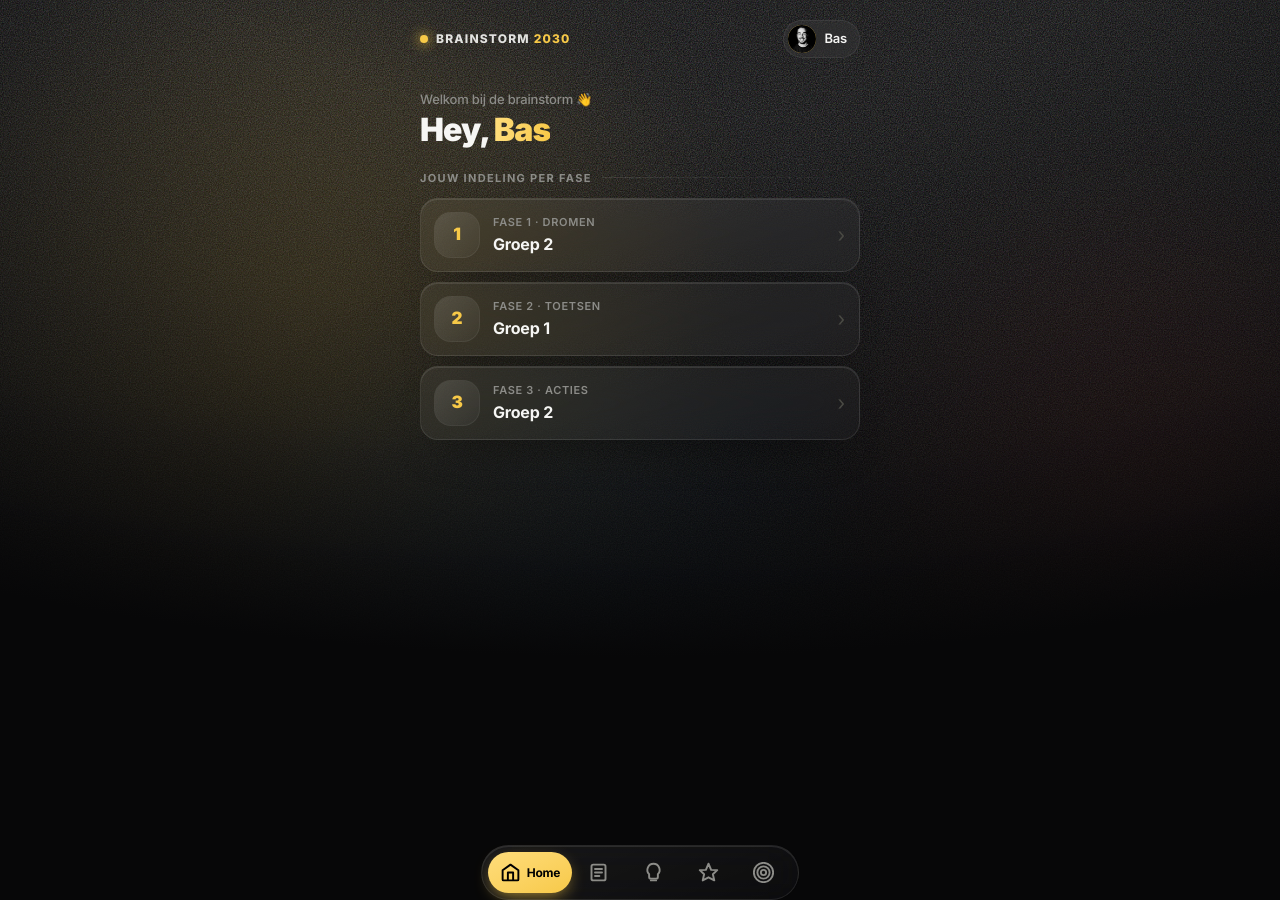
Scenario: App flow › navigates between tabs via the bottom nav
The width and height of the screenshot is (1280, 900).
Click the button named "Spelregels": (602, 872) [576, 852, 627, 893]
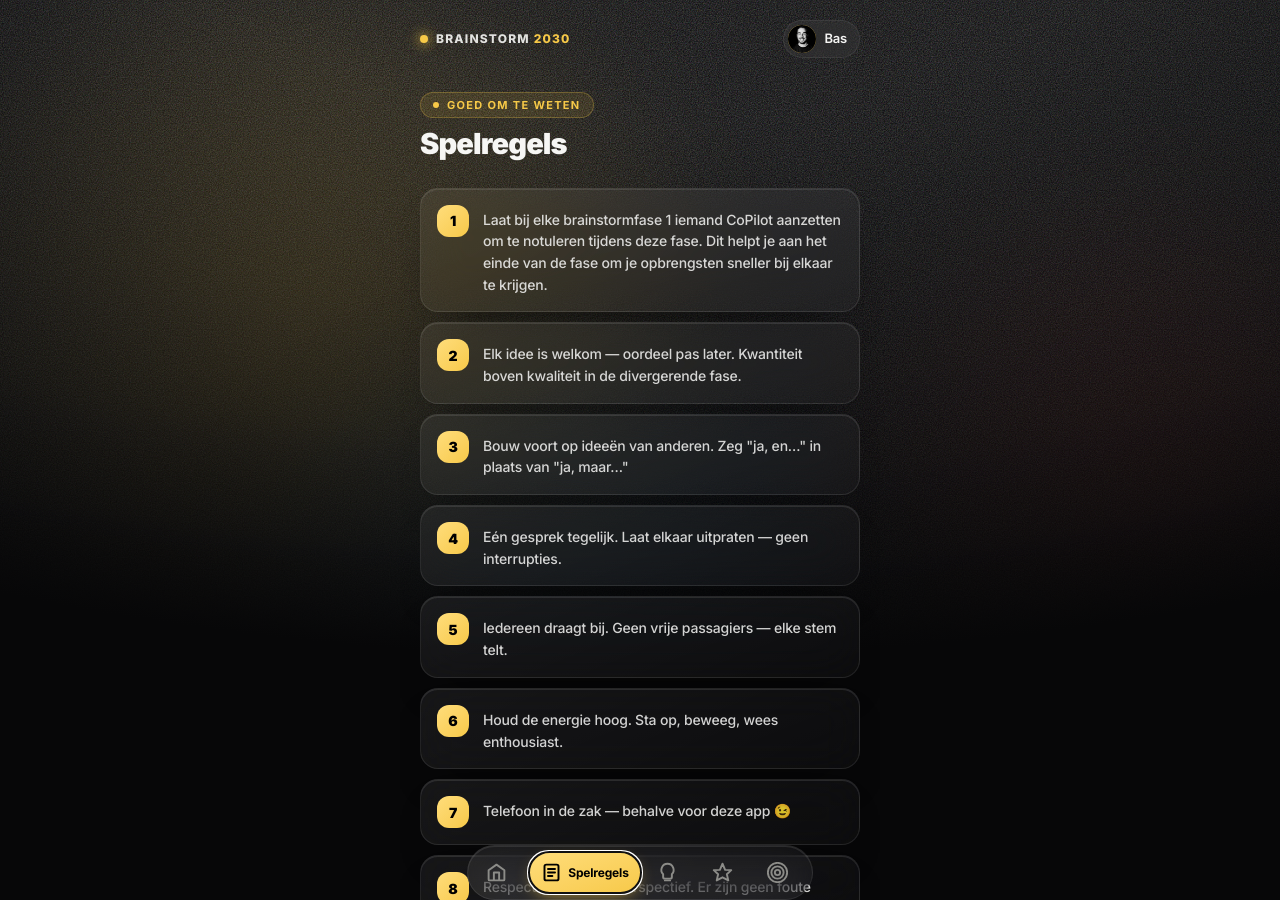
Expected: the heading "Spelregels" is shown, [420, 126, 567, 161]
Click the button named "Fase 2": (725, 872) [700, 852, 751, 893]
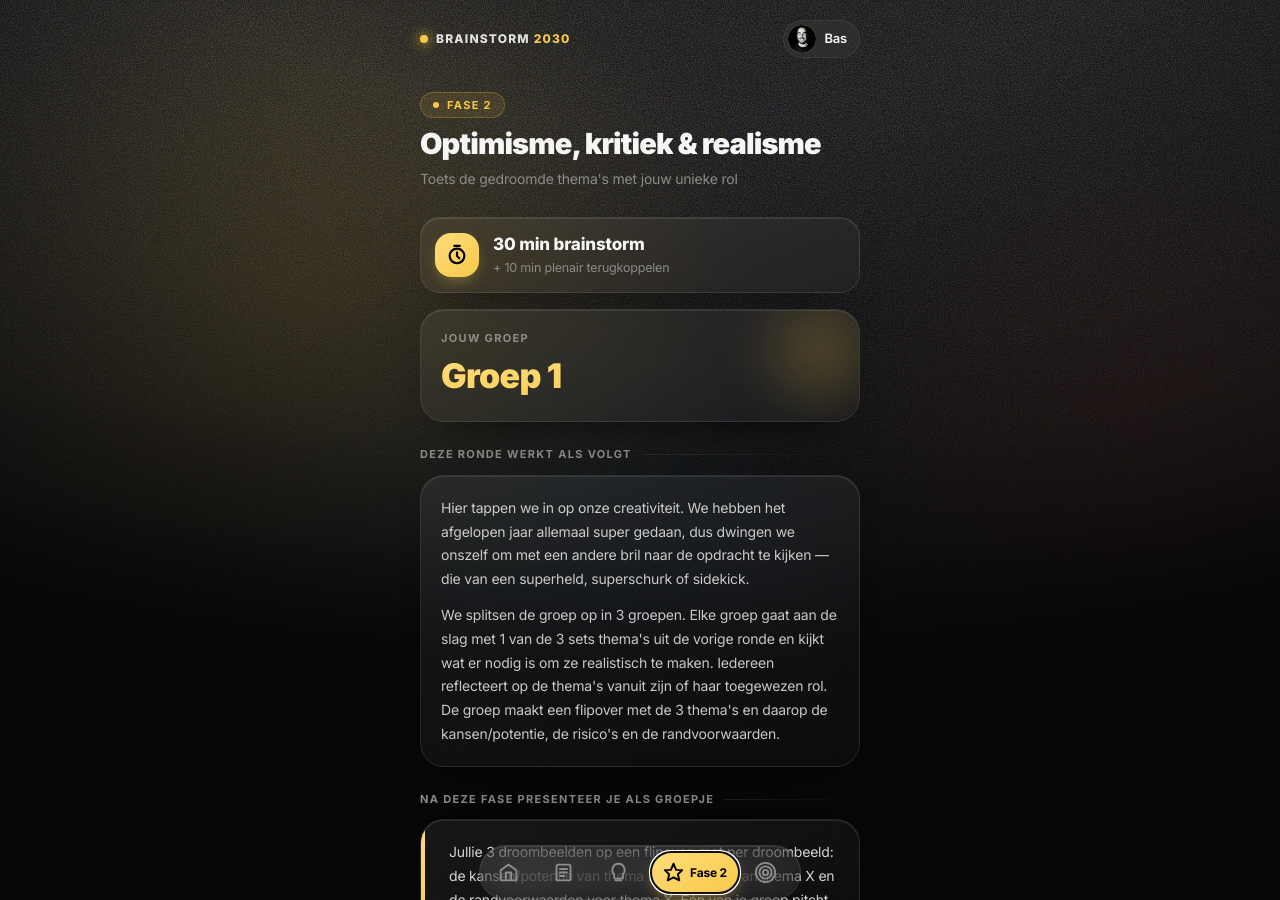
Expected: the heading "Optimisme, kritiek & realisme" is shown, [420, 128, 860, 160]
